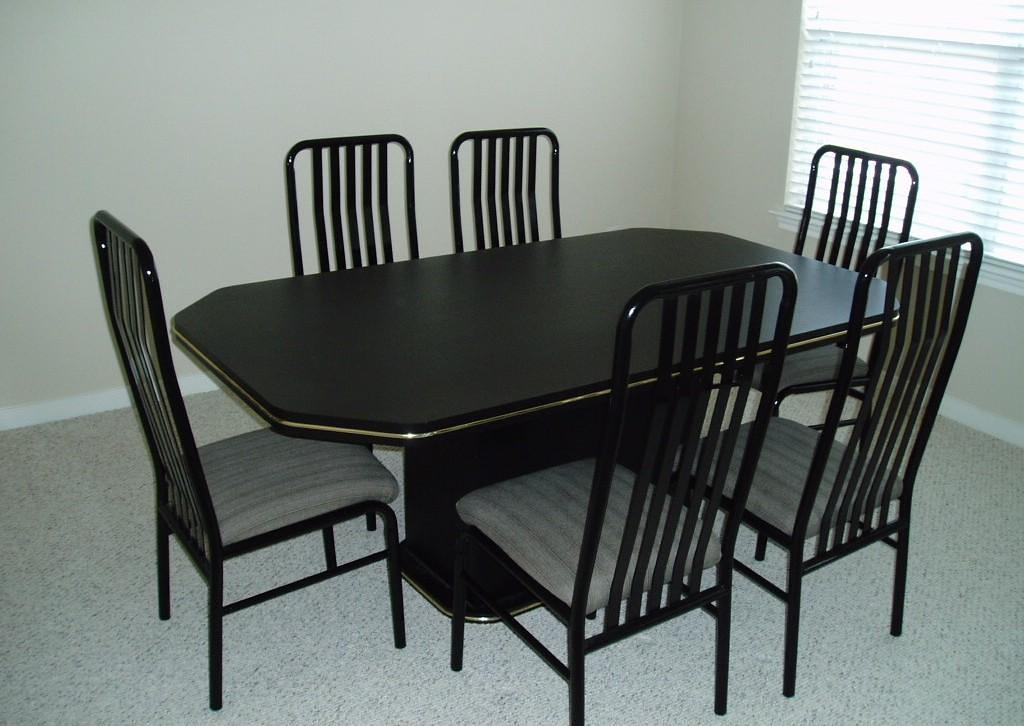table: (170, 224, 904, 643)
